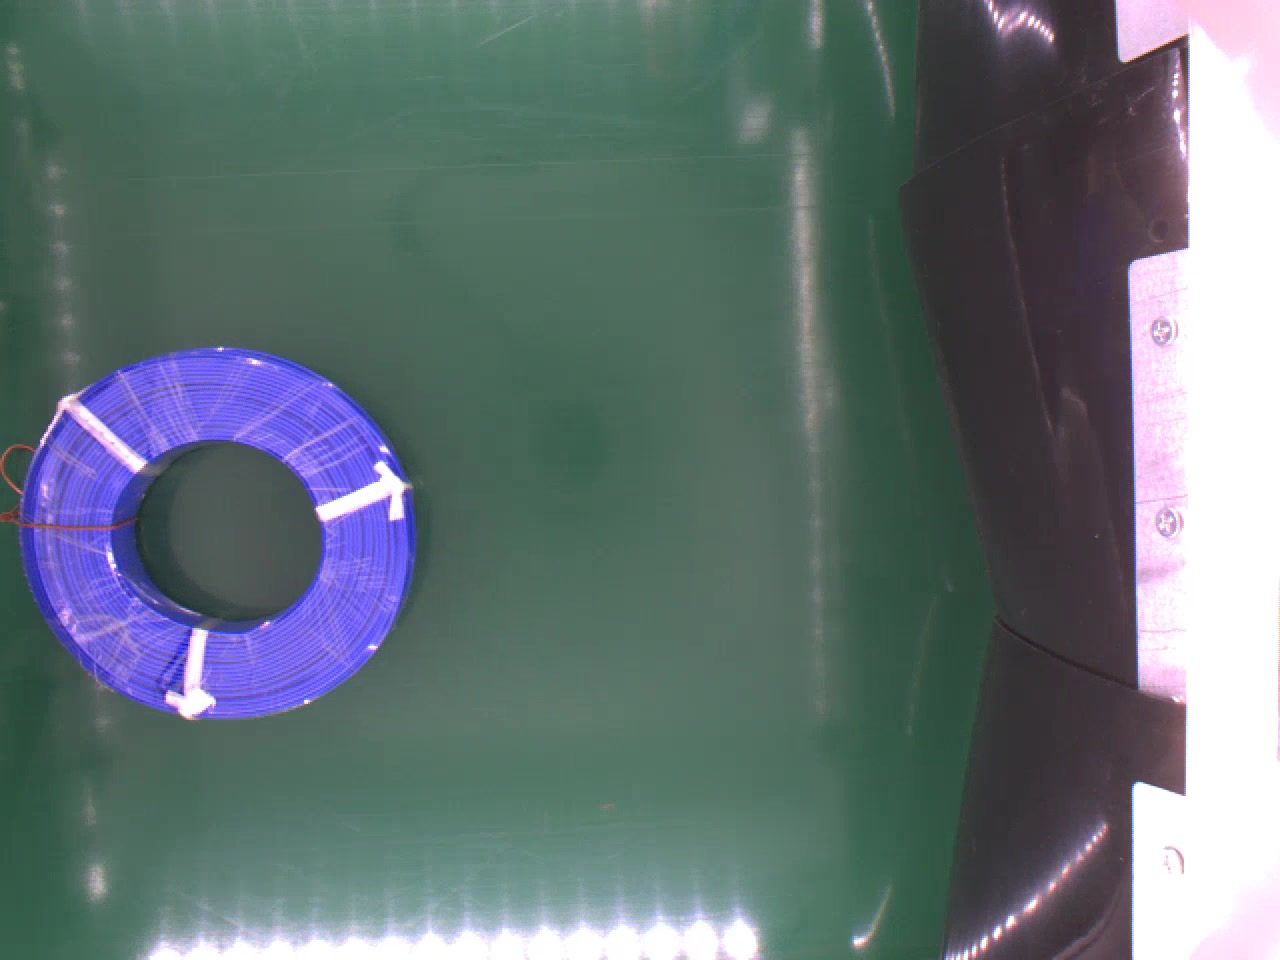blue: (20, 345, 413, 717)
